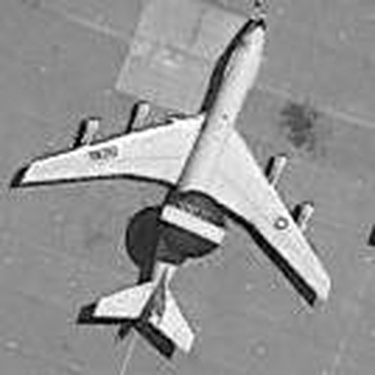airplane: (12, 9, 341, 362)
